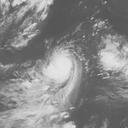cyclone: (42, 48, 81, 88)
